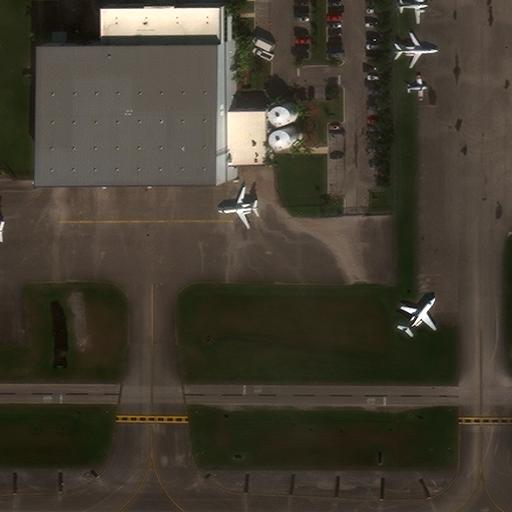Medium Civil Transport: (217, 186, 258, 229)
Small Civil Transport: (394, 31, 438, 69), (401, 296, 437, 333), (397, 0, 428, 24), (405, 74, 427, 100)
